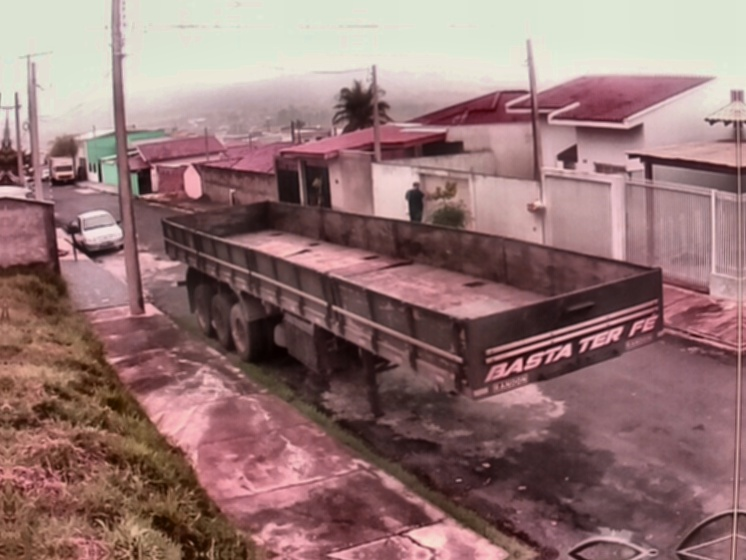person: (401, 181, 428, 224)
